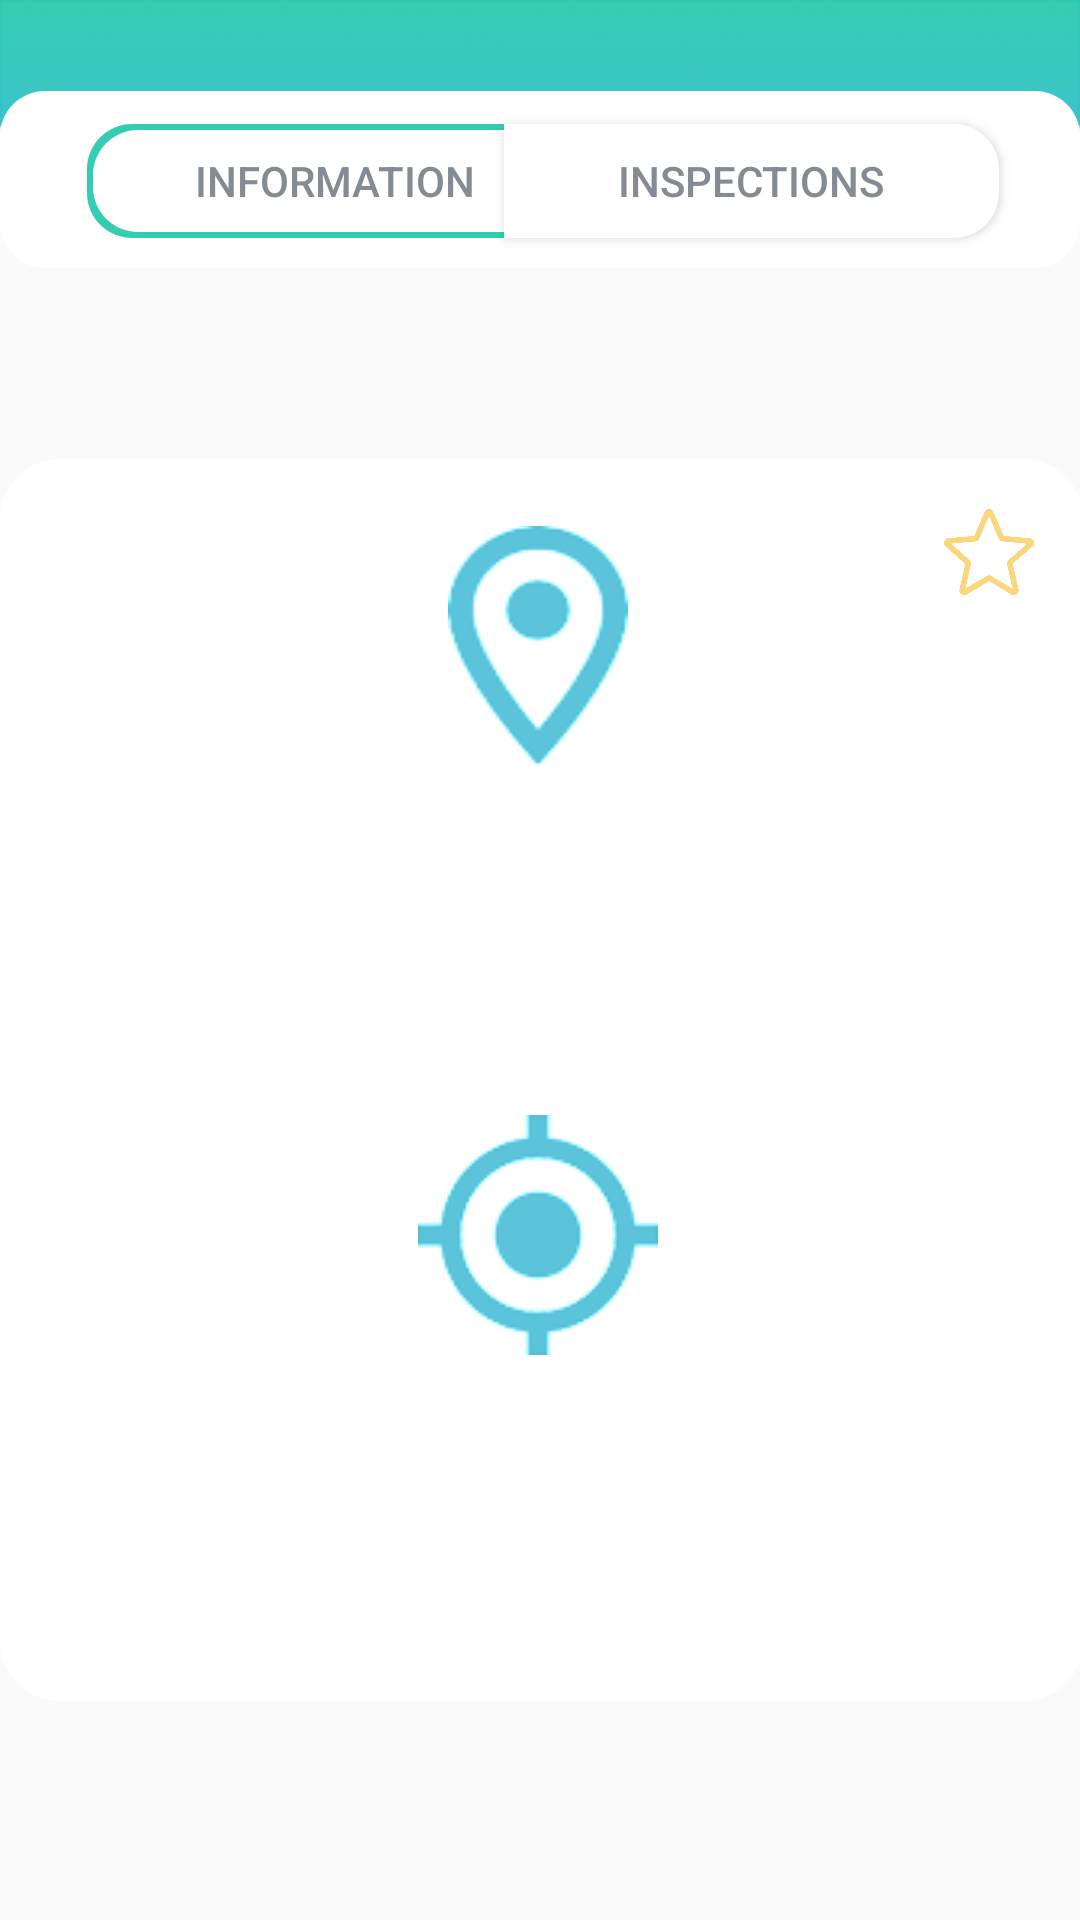

Icon click points for this 1080x1920 phone screenshot, format (x=x, y=y):
address: (x=538, y=646)
coordinates: (x=538, y=1235)
